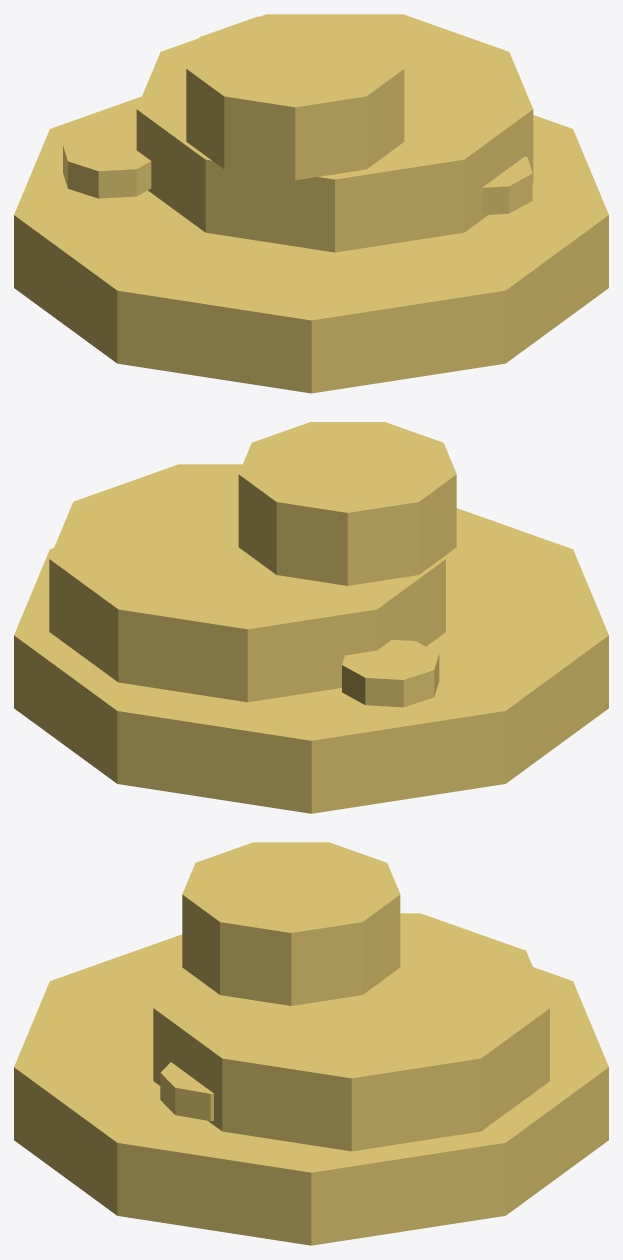
The model's file is coin_pile.glb.
The picture shows the model from 3 angles, top to bottom: view 1: azimuth 30°, elevation 25°; view 2: azimuth 150°, elevation 25°; view 3: azimuth 270°, elevation 25°; orthographic projection.
Visible parts, largest first — view 1: coin_pile_00, coin_pile_01, coin_pile_02, coin_pile_04, coin_pile_03; view 2: coin_pile_00, coin_pile_01, coin_pile_02, coin_pile_04; view 3: coin_pile_00, coin_pile_01, coin_pile_02, coin_pile_03.
Boxes of the visible parts, x1=… form: coin_pile_00: x1=14, y1=96, x2=608, y2=393; coin_pile_01: x1=136, y1=14, x2=533, y2=252; coin_pile_02: x1=186, y1=16, x2=404, y2=180; coin_pile_04: x1=63, y1=130, x2=151, y2=198; coin_pile_03: x1=482, y1=156, x2=532, y2=215; coin_pile_00: x1=14, y1=508, x2=608, y2=813; coin_pile_01: x1=49, y1=464, x2=445, y2=702; coin_pile_02: x1=238, y1=422, x2=456, y2=585; coin_pile_04: x1=342, y1=639, x2=439, y2=707; coin_pile_00: x1=14, y1=934, x2=608, y2=1245; coin_pile_01: x1=153, y1=913, x2=549, y2=1151; coin_pile_02: x1=182, y1=842, x2=400, y2=1005; coin_pile_03: x1=160, y1=1062, x2=213, y2=1121.
Size of the model in its own units: 0.5819 by 0.24 by 0.5909.
